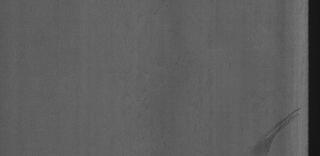silk spot: (125, 34, 211, 144)
water spot: (249, 106, 307, 156)
